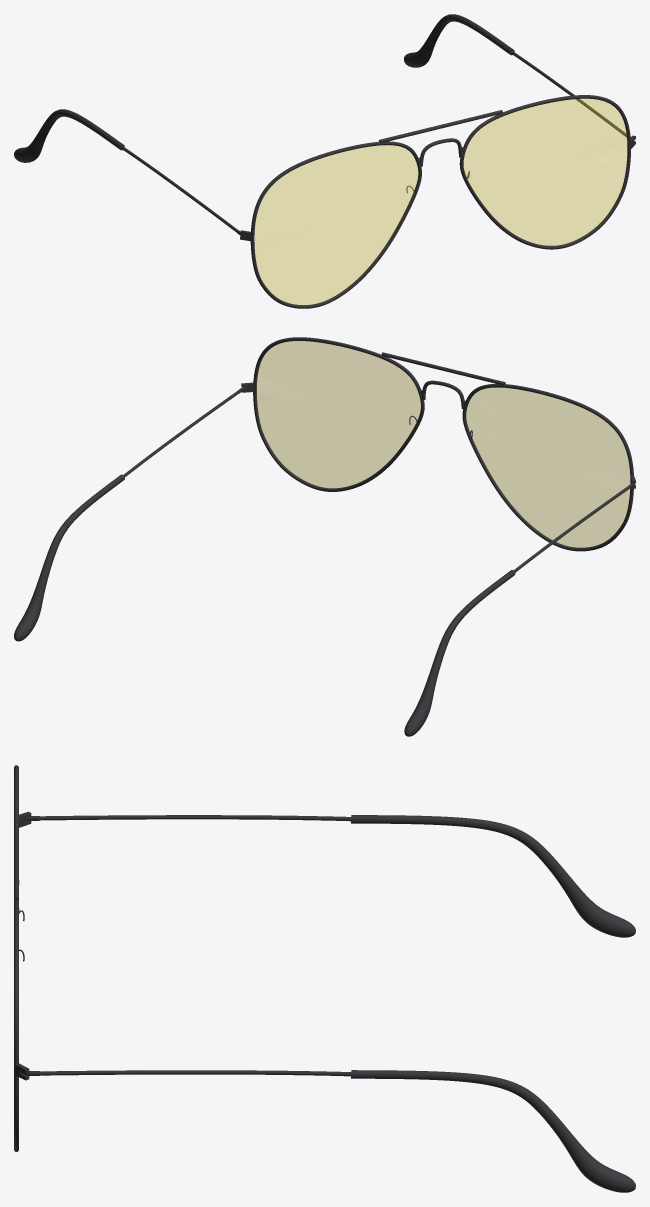
The model's file is model_7_black.glb.
3 views of the same model, one above another, from view 1: azimuth 30°, elevation 25°; view 2: azimuth 150°, elevation 25°; view 3: azimuth 270°, elevation 25° (orthographic). The views are drawn at different scales.
Parts seen in each view (by area): view 1: model_7_hitam; view 2: model_7_hitam; view 3: model_7_hitam.
Boxes of the visible parts, x1,y1,x2,y2 form: model_7_hitam: [14, 14, 635, 308]; model_7_hitam: [14, 337, 635, 736]; model_7_hitam: [14, 765, 635, 1192].
Size of the model in its own units: 2232 by 820 by 2228.
